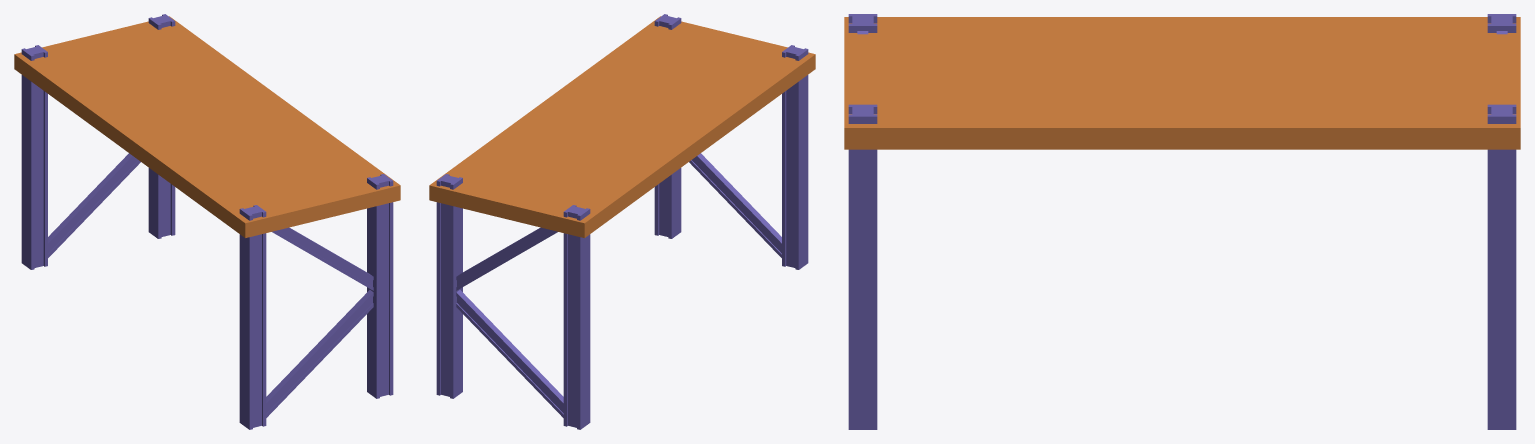
The model's file is Shelf.fbx.
The picture shows the model from 3 angles, left to right: view 1: azimuth 30°, elevation 25°; view 2: azimuth 150°, elevation 25°; view 3: azimuth 270°, elevation 25°; orthographic projection. The views are drawn at different scales.
Parts seen in each view (by area): view 1: Cube, poles, Scaffolding; view 2: Cube, poles, Scaffolding; view 3: Cube, poles.
Part boxes in pixels (box(x1,y1,x2,y2)): Cube: box(14, 16, 400, 237); poles: box(21, 14, 393, 429); Scaffolding: box(48, 153, 373, 417); Cube: box(429, 16, 815, 237); poles: box(436, 14, 808, 429); Scaffolding: box(456, 153, 781, 417); Cube: box(844, 17, 1520, 149); poles: box(848, 14, 1516, 429).
Bounding box in the file's own units: 150 × 197 × 386.
